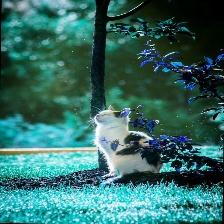kedo: (93, 105, 162, 184)
